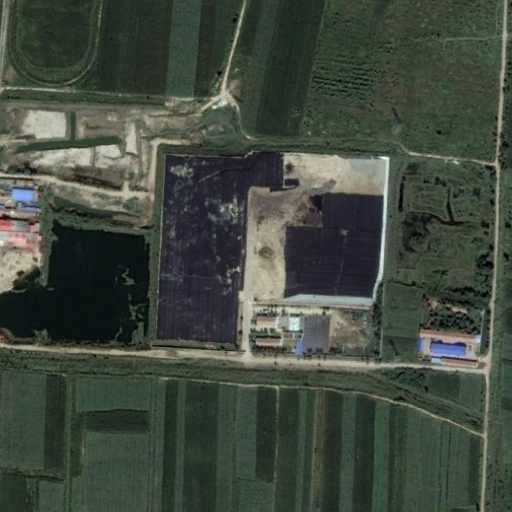lf: (156, 151, 388, 358)
